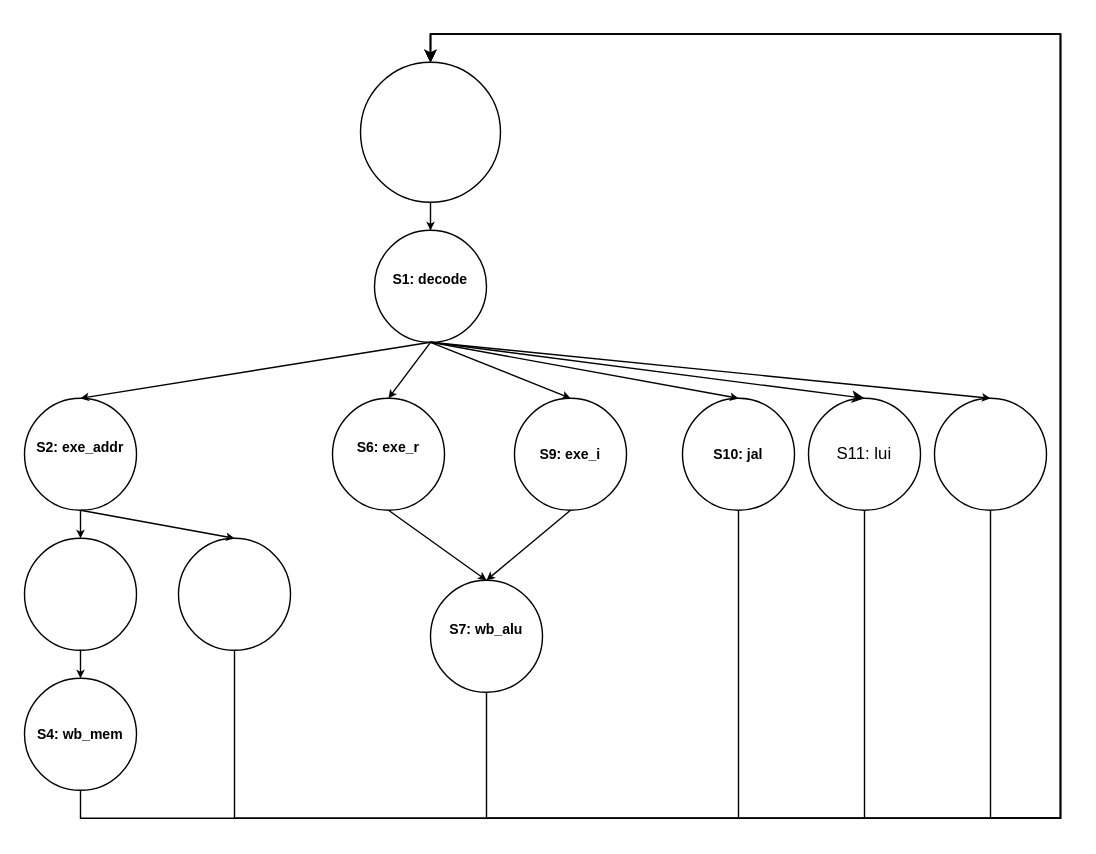
Image size: 1096x854. Some labels were removed from this diagram. The centre of each missing label's shape, as x and y in pixels:
"S0: fetch" goes at point 429,131.
"S3: mem_rd" goes at point 79,593.
"S5: mem_wr" goes at point 233,593.
"S8: beq" goes at point 989,453.
